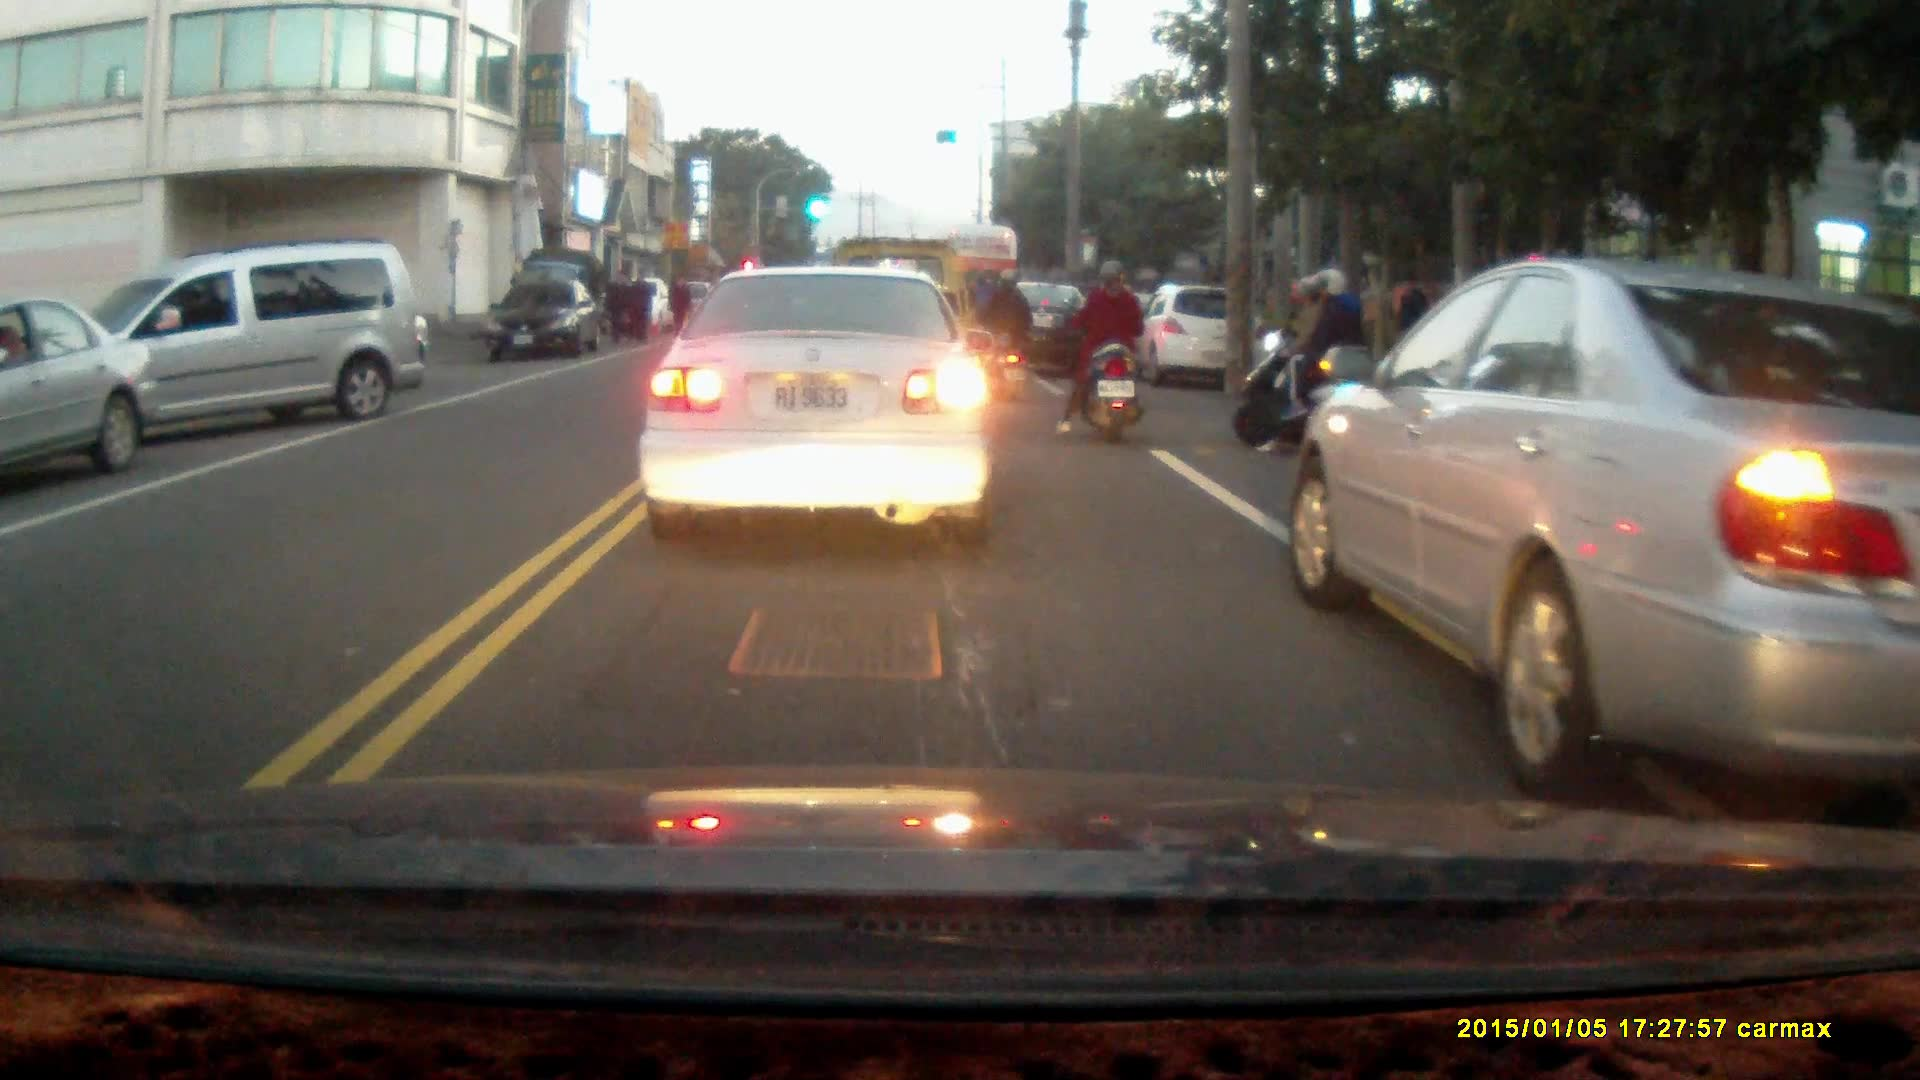pedestrian: (1395, 274, 1430, 363), (602, 271, 630, 348), (625, 272, 651, 349), (665, 272, 693, 340)
rider: (1233, 265, 1376, 458), (1051, 261, 1147, 446), (964, 269, 1029, 396)
vehicle: (1289, 256, 1920, 785), (646, 270, 998, 561), (54, 248, 420, 455), (1, 298, 159, 487), (1133, 284, 1261, 396), (970, 285, 1110, 383), (491, 279, 610, 364)
